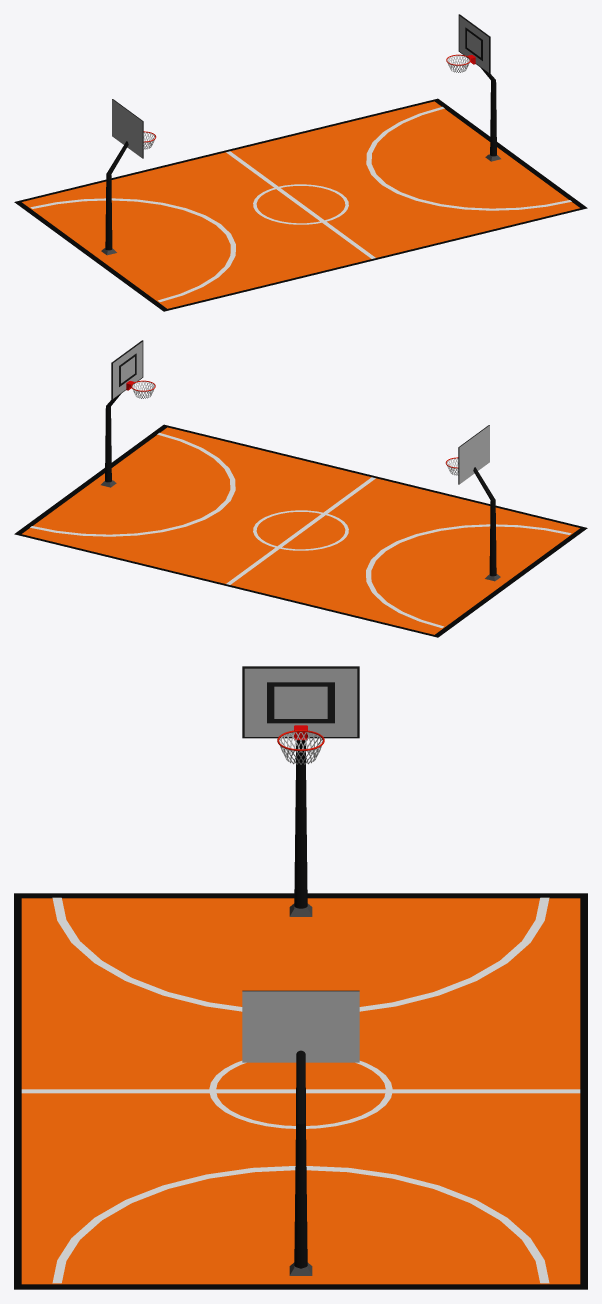
The model's file is PistaBaloncesto.fbx.
3 views of the same model, one above another, from view 1: azimuth 30°, elevation 25°; view 2: azimuth 150°, elevation 25°; view 3: azimuth 270°, elevation 25° (orthographic). The views are drawn at different scales.
Parts seen in each view (by area): view 1: Plane, Cube.002, Cube.001, Cylinder.002, Cylinder.003, Cylinder.001; view 2: Plane, Cube.002, Cube.001, Cylinder.002, Cylinder.003, Cylinder.001; view 3: Plane, Cube.001, Cube.002, Cylinder.002, Cylinder.003, Cylinder.001.
Part boxes in pixels (x1,y1,x2,y2): Plane: (14, 98, 587, 311); Cube.002: (446, 14, 500, 161); Cube.001: (101, 99, 156, 255); Cylinder.002: (366, 106, 571, 210); Cylinder.003: (30, 198, 235, 301); Cylinder.001: (253, 184, 348, 224); Plane: (14, 424, 587, 637); Cube.002: (101, 340, 155, 487); Cube.001: (445, 425, 500, 581); Cylinder.002: (30, 432, 235, 536); Cylinder.003: (366, 524, 571, 627); Cylinder.001: (253, 510, 348, 550); Plane: (14, 893, 587, 1289); Cube.001: (242, 666, 359, 916); Cube.002: (242, 990, 359, 1275); Cylinder.002: (52, 1166, 549, 1283); Cylinder.003: (52, 897, 549, 1011); Cylinder.001: (209, 1061, 392, 1128).
Bounding box in the file's own units: 787 × 244 × 482.
